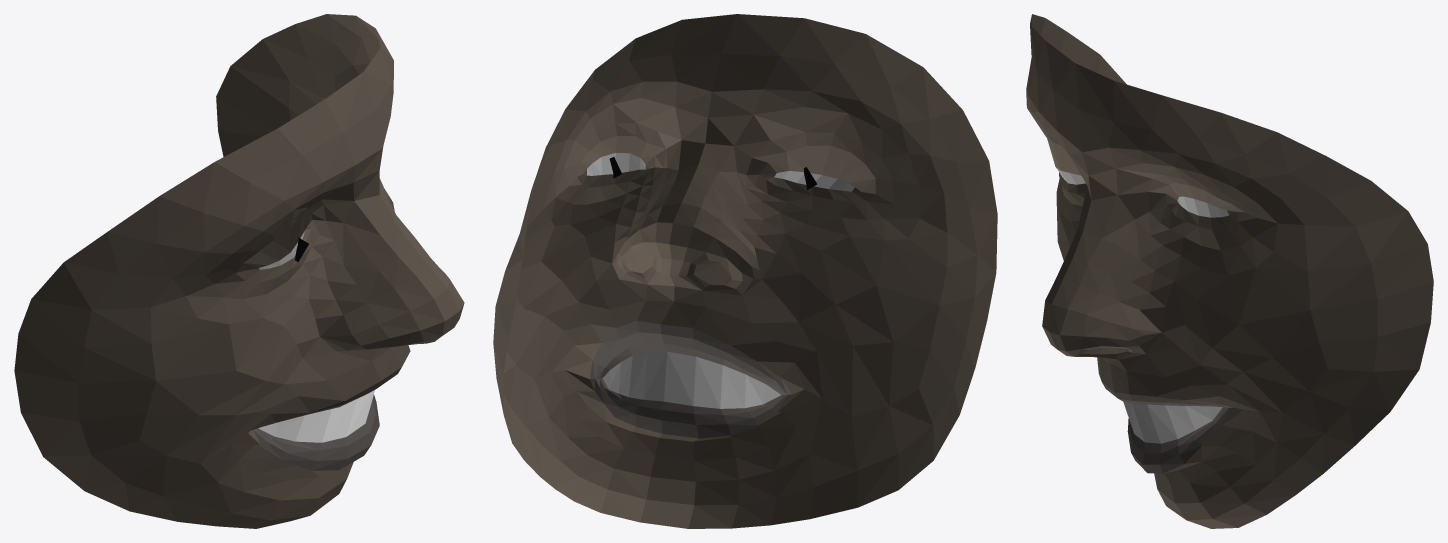
Rendered from IMG_3688.obj.
3 views of the same model, side by side, from view 1: azimuth 30°, elevation 25°; view 2: azimuth 150°, elevation 25°; view 3: azimuth 270°, elevation 25° (orthographic). The views are drawn at different scales.
Visible parts, largest first — view 1: face_model_with_iris; view 2: face_model_with_iris; view 3: face_model_with_iris.
Boxes of the visible parts, left/top/right/bottom form: face_model_with_iris: left=14, top=14, right=464, bottom=528; face_model_with_iris: left=493, top=14, right=997, bottom=528; face_model_with_iris: left=1026, top=14, right=1433, bottom=528.
Bounding box in the file's own units: 0.8829 × 0.9844 × 0.7951.
